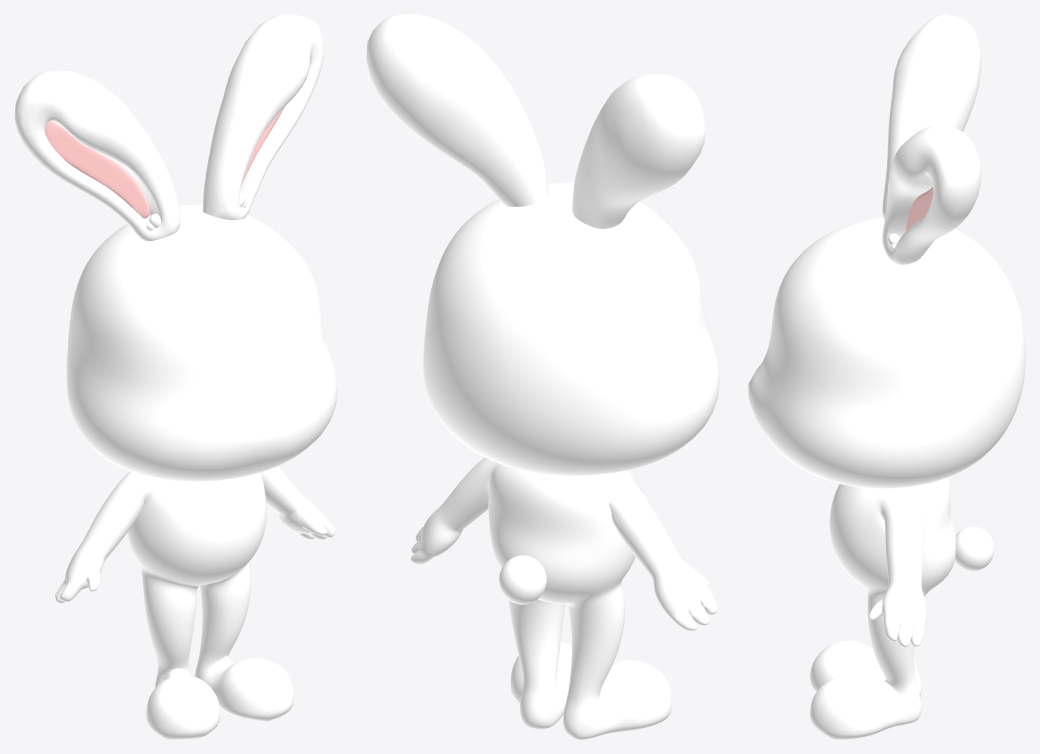
File: basic_avatar_[no_face].gltf
The picture shows the model from 3 angles, left to right: view 1: azimuth 30°, elevation 25°; view 2: azimuth 150°, elevation 25°; view 3: azimuth 270°, elevation 25°; orthographic projection. The views are drawn at different scales.
Parts seen in each view (by area): view 1: POSED_BODY_FIN1; view 2: POSED_BODY_FIN1; view 3: POSED_BODY_FIN1.
Boxes of the visible parts, x1,y1,x2,y2 form: POSED_BODY_FIN1: (14,14,337,739); POSED_BODY_FIN1: (366,14,719,739); POSED_BODY_FIN1: (748,14,1025,739).
Bounding box in the file's own units: 0.0817 × 0.1624 × 0.0644.
